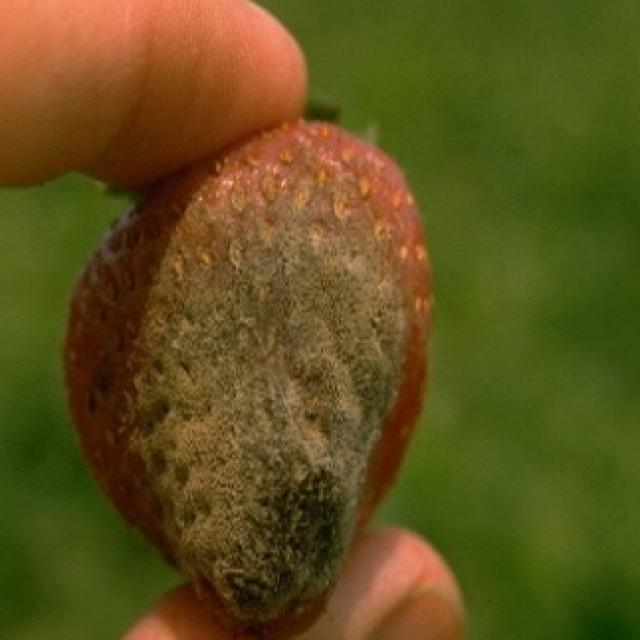Gray Mold: (117, 130, 426, 640)
